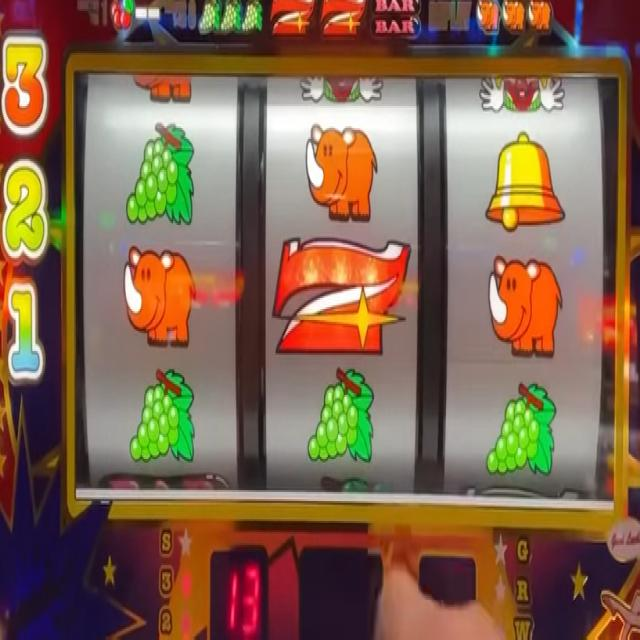bar: (370, 0, 423, 41)
bell: (72, 62, 620, 510), (484, 129, 565, 236)
cherry: (107, 0, 133, 32)
clown: (478, 77, 566, 118), (298, 78, 384, 106)
elephant: (121, 242, 197, 349), (487, 252, 563, 356), (304, 119, 378, 224), (132, 68, 192, 106), (475, 0, 501, 37), (527, 0, 553, 32), (502, 0, 526, 32)
grape: (126, 117, 194, 225), (485, 378, 557, 479), (307, 365, 374, 468), (128, 365, 196, 466), (241, 0, 262, 35), (198, 0, 220, 33), (221, 0, 240, 33)
z: (270, 232, 412, 362), (318, 0, 367, 41), (268, 0, 316, 39)
